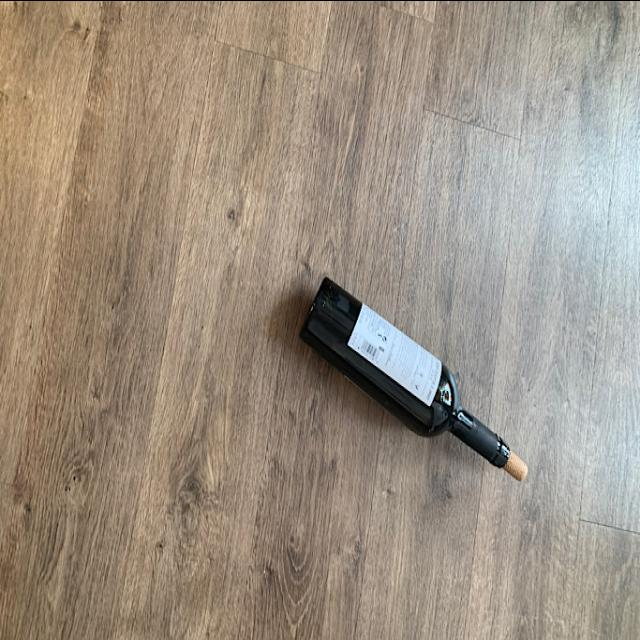litter: (297, 269, 509, 471)
